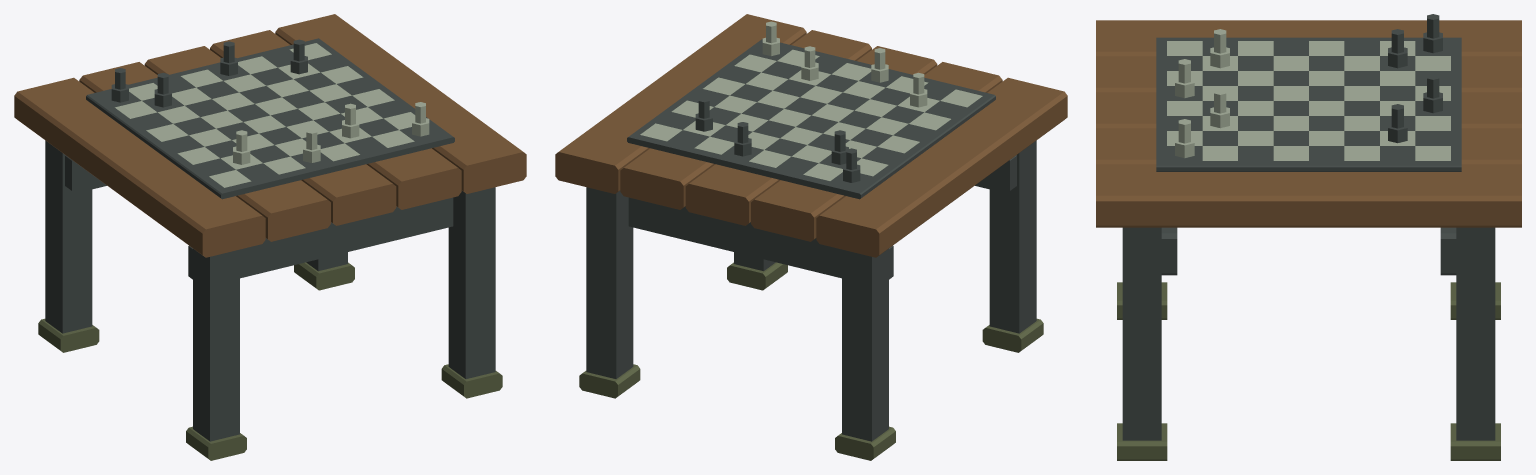
Rendered from ChessTable.gltf.
3 views of the same model, side by side, from view 1: azimuth 30°, elevation 25°; view 2: azimuth 150°, elevation 25°; view 3: azimuth 270°, elevation 25° (orthographic). The views are drawn at different scales.
Visible parts, largest first — view 1: ChessTable; view 2: ChessTable; view 3: ChessTable.
Boxes of the visible parts, left/top/right/bottom form: ChessTable: left=14, top=14, right=526, bottom=460; ChessTable: left=555, top=14, right=1067, bottom=460; ChessTable: left=1096, top=14, right=1521, bottom=460.
Bounding box in the file's own units: 0.596 × 0.485 × 0.6.
